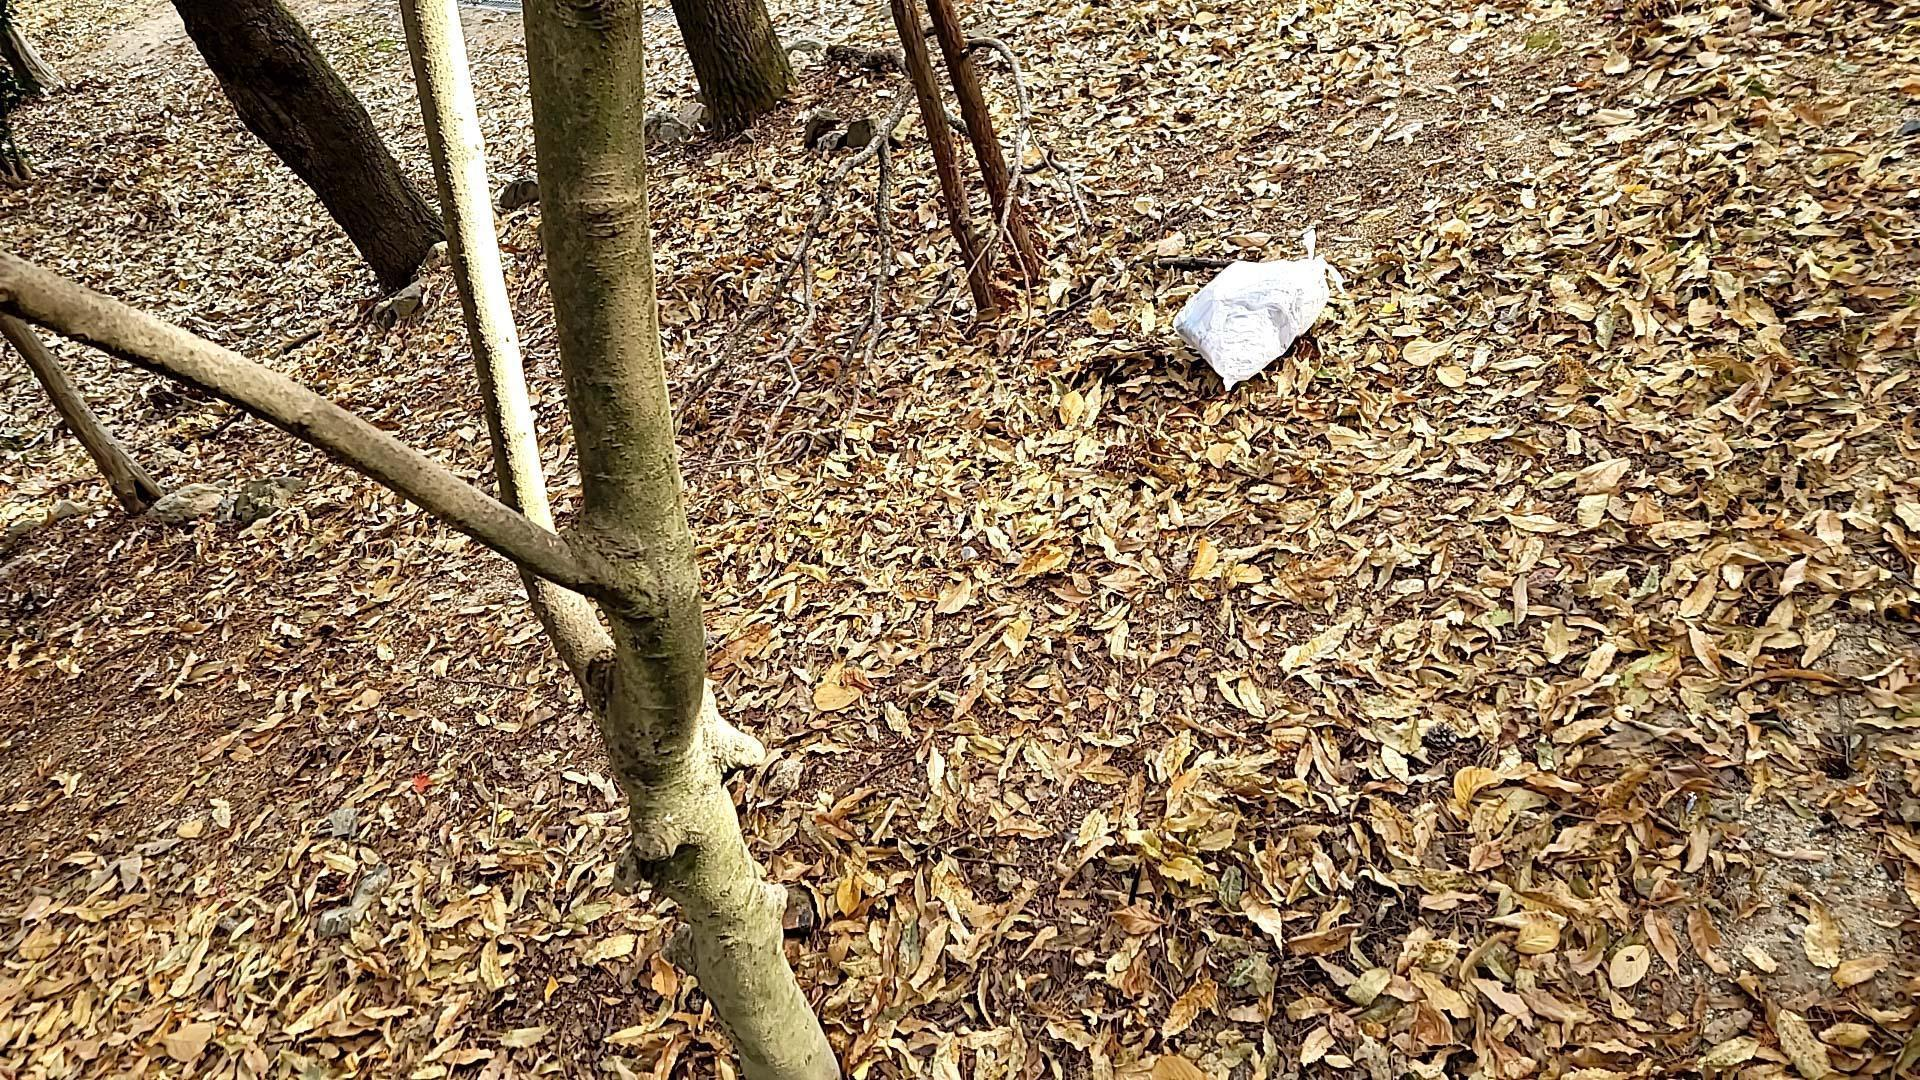white_bag: (1168, 228, 1356, 394)
